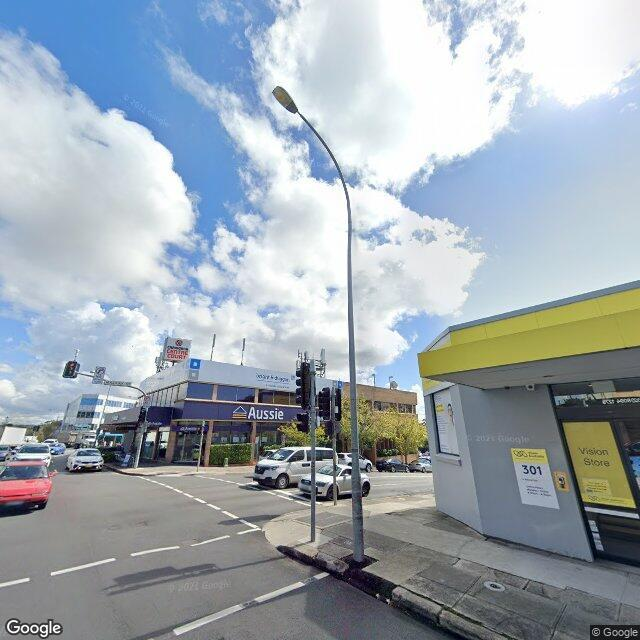steel-pole: (347, 202, 365, 562), (133, 393, 147, 468), (311, 358, 315, 541), (332, 387, 337, 506)
streetlight: (272, 85, 350, 201)
traffic-light: (295, 362, 310, 410), (316, 387, 332, 419), (62, 361, 80, 378), (296, 413, 310, 434), (335, 388, 342, 421), (325, 421, 333, 438), (138, 407, 146, 423)
